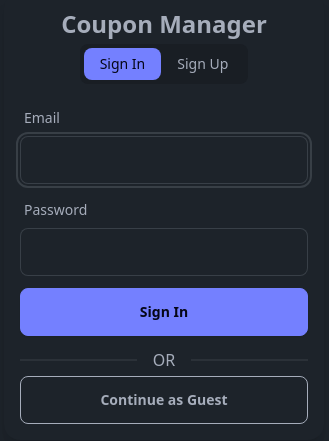
Test: LoginForm › Tab Switching › should switch back to sign in tab when clicking Sign In tab
The image size is (329, 441).
Click the link "Sign Up".
click(203, 64)  # box [177,54,228,73]
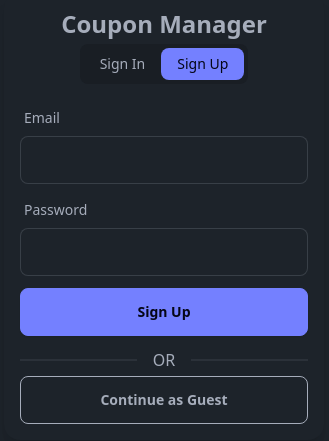
Click the link "Sign In".
click(122, 64)  # box [100,54,145,73]
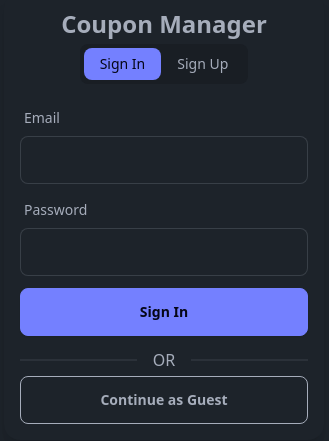
Check: the button with test id "login-submit-button" reads "Sign In", box [20,288,308,336]
